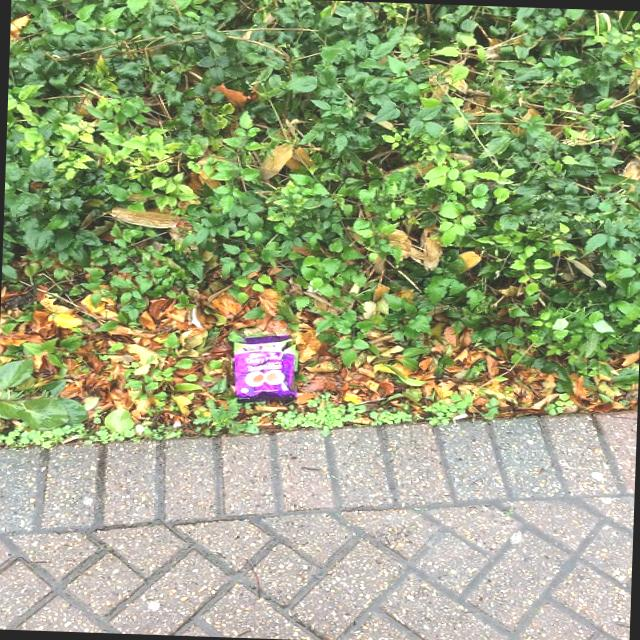Trash: (231, 331, 295, 404)
